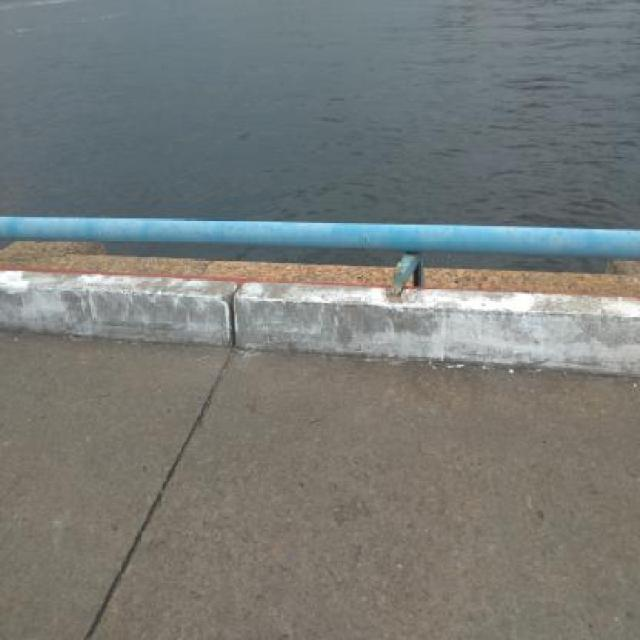gas: (6, 217, 633, 258)
